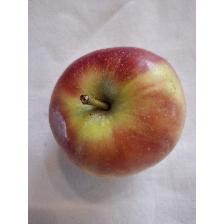Apfel: (48, 44, 188, 180)
